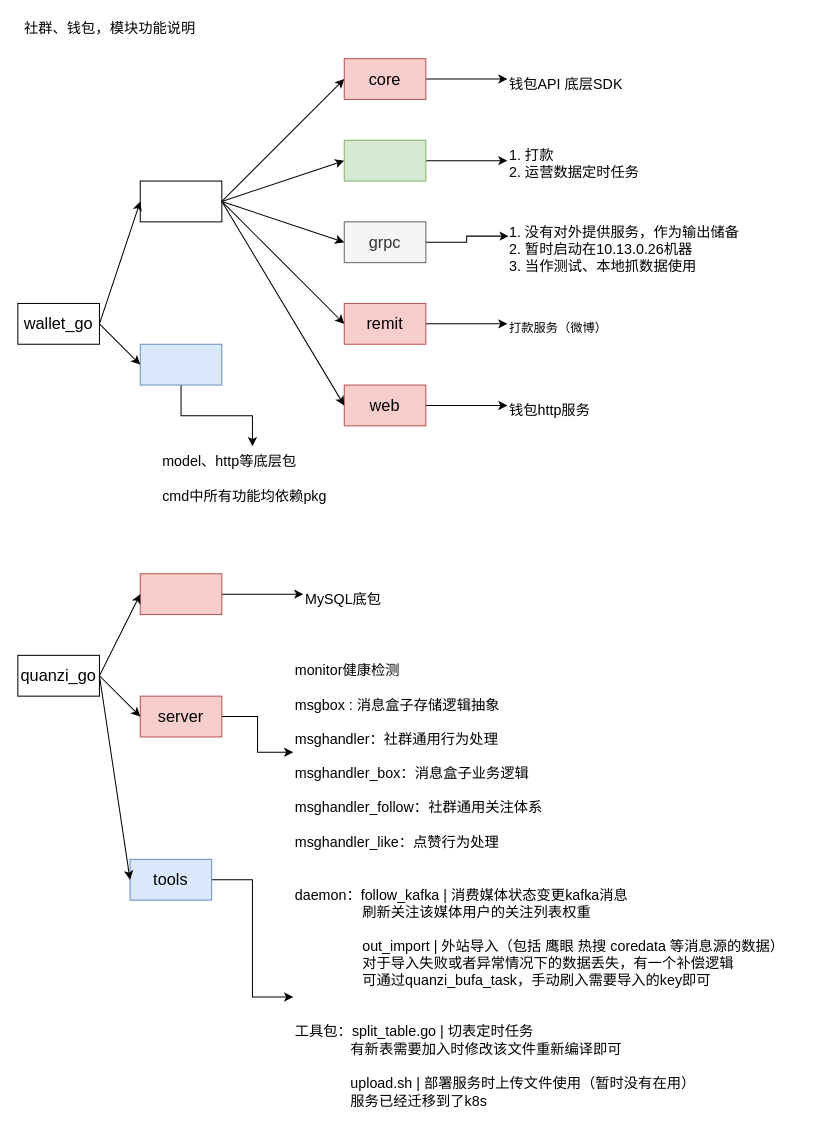
The diagram is 821 pixels wide and 1131 high, and some of its shapes have lost their labels. The centre of each missing label's shape, as x and y in pixels:
cmd: (180,201)
daemon: (384,160)
model: (180,594)
pkg: (180,364)
